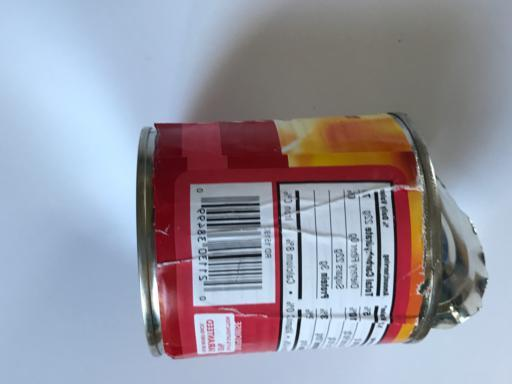metal: (134, 113, 490, 360)
